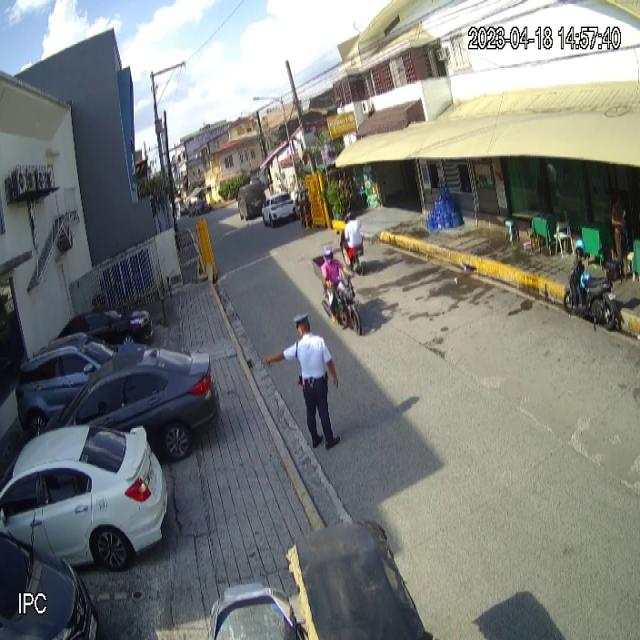Car: (39, 346, 220, 461)
Motorcycle: (563, 252, 623, 330), (324, 274, 362, 334)
